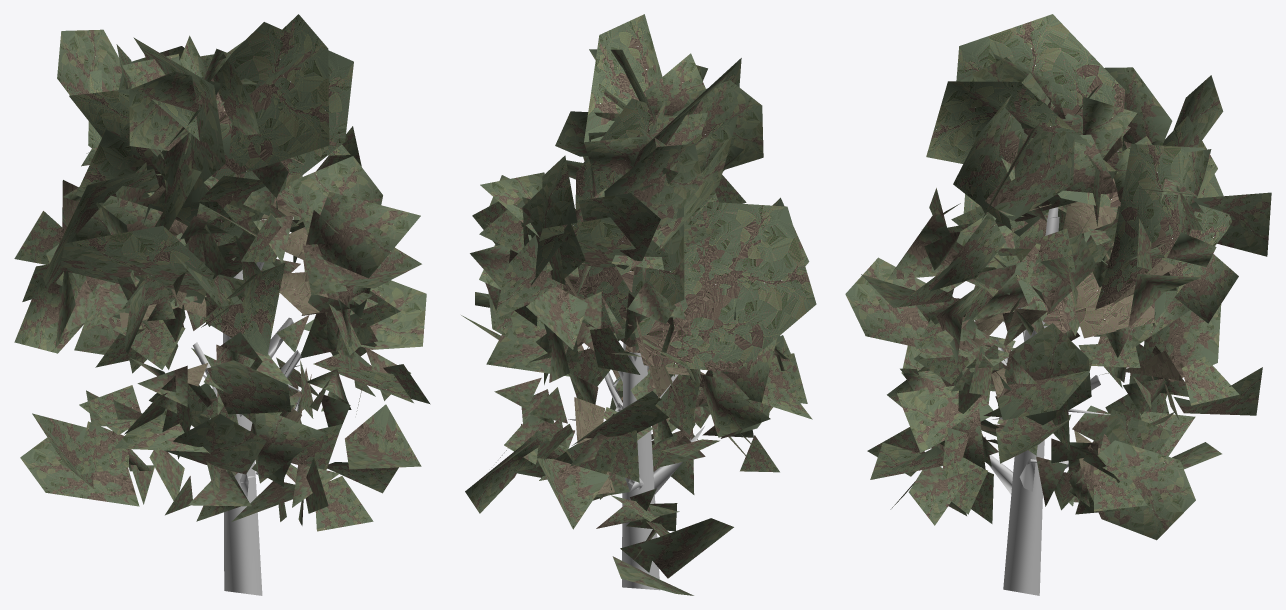
File: oak_tree_a_lod2.fbx
The picture shows the model from 3 angles, left to right: view 1: azimuth 30°, elevation 25°; view 2: azimuth 150°, elevation 25°; view 3: azimuth 270°, elevation 25°; orthographic projection. The views are drawn at different scales.
Visible parts, largest first — view 1: LOD1; view 2: LOD1; view 3: LOD1.
Part boxes in pixels (bbox=[...]): LOD1: bbox=[14, 14, 430, 595]; LOD1: bbox=[461, 14, 816, 595]; LOD1: bbox=[845, 14, 1271, 595].
Bounding box in the file's own units: 608 × 865 × 631.
